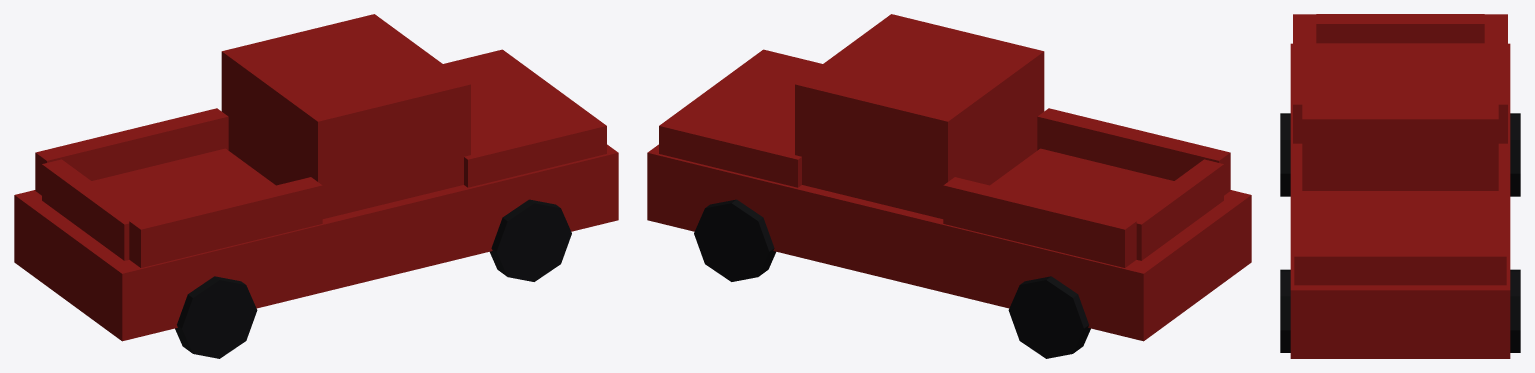
The model's file is proxy_pickup_red.dae.
The picture shows the model from 3 angles, left to right: view 1: azimuth 30°, elevation 25°; view 2: azimuth 150°, elevation 25°; view 3: azimuth 270°, elevation 25°; orthographic projection.
Visible parts, largest first — view 1: proxy_pickup; view 2: proxy_pickup; view 3: proxy_pickup.
Part boxes in pixels (x1,y1,x2,y2): proxy_pickup: [14, 14, 618, 358]; proxy_pickup: [647, 14, 1251, 358]; proxy_pickup: [1280, 14, 1520, 358].
Bounding box in the file's own units: 5 × 2.06 × 1.95.
